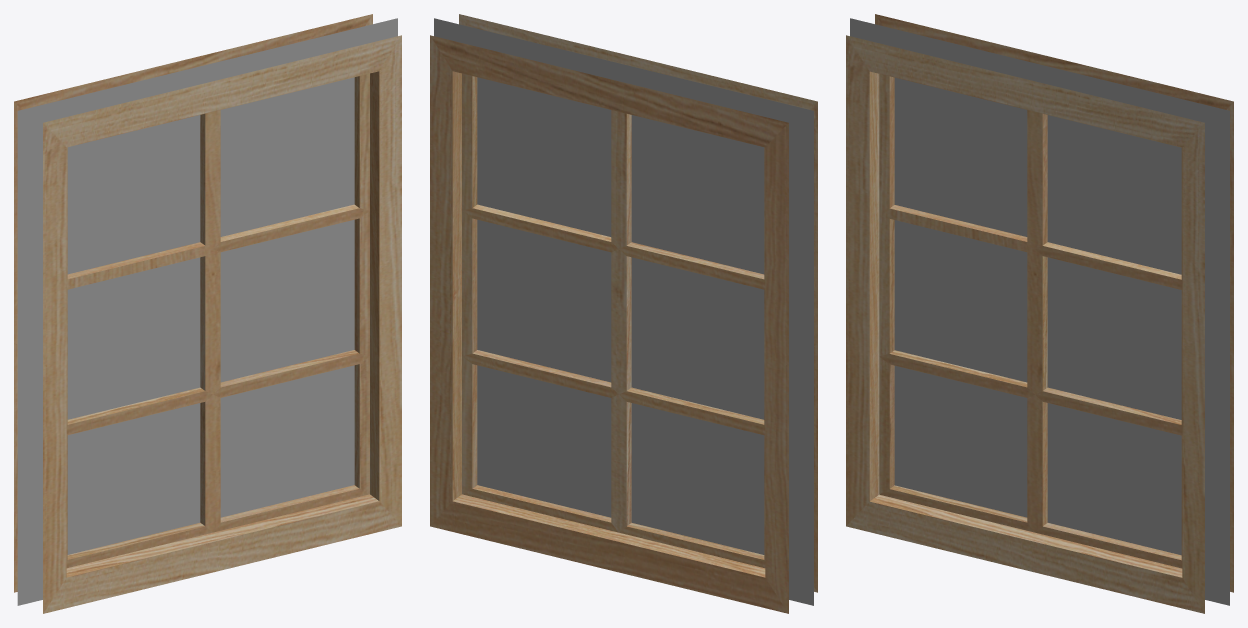
File: ARC0510038.fbx
3 renders of one model, left to right at view 1: azimuth 30°, elevation 25°; view 2: azimuth 150°, elevation 25°; view 3: azimuth 330°, elevation 25°, orthographic.
Parts seen in each view (by area): view 1: smARC0510038; view 2: smARC0510038; view 3: smARC0510038.
Part boxes in pixels (box(x1,y1,x2,y2)): smARC0510038: box(14, 14, 401, 613); smARC0510038: box(430, 14, 817, 613); smARC0510038: box(846, 14, 1233, 613).
Bounding box in the file's own units: 112 × 140 × 14.88.
2 materials, 1 textured.
